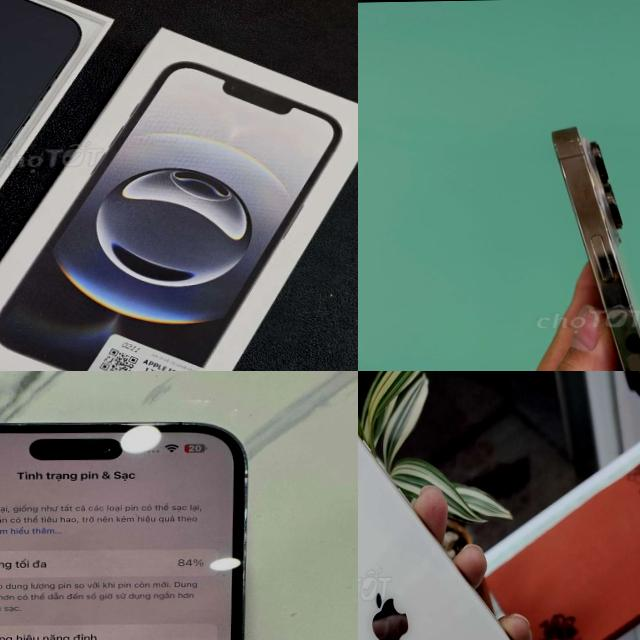gen_11: (358, 402, 558, 640)
gen_14: (0, 409, 253, 640), (543, 120, 640, 371)
